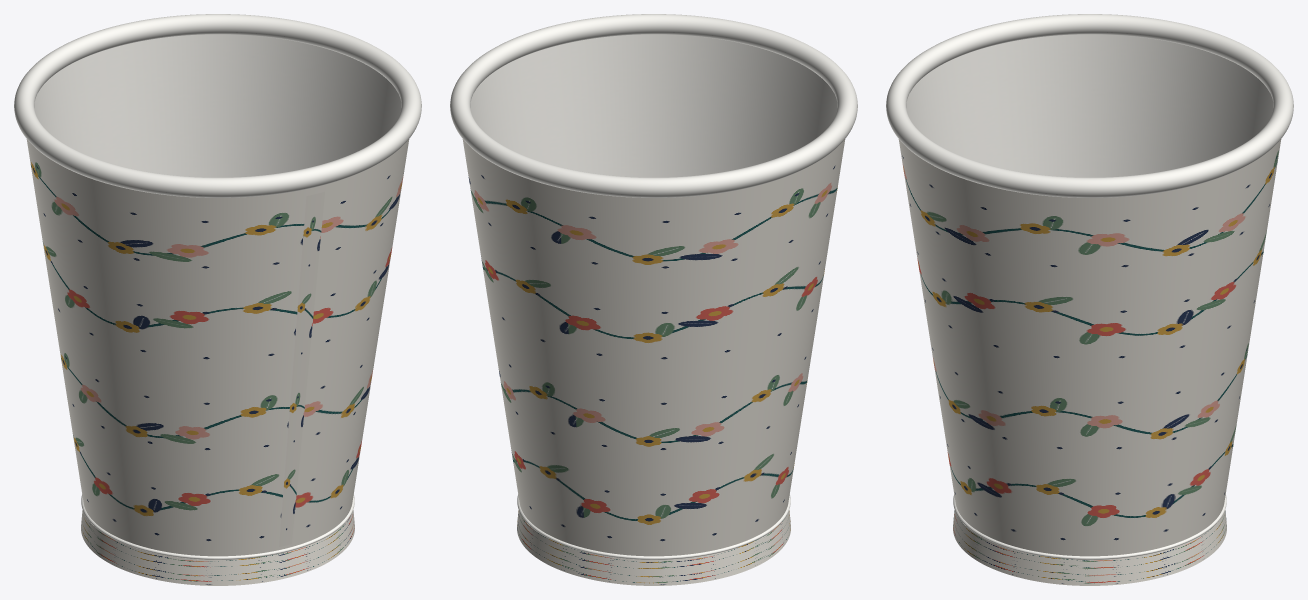
File: patterned-botanical-paper-cup-v1.glb
3 views of the same model, side by side, from view 1: azimuth 30°, elevation 25°; view 2: azimuth 150°, elevation 25°; view 3: azimuth 270°, elevation 25° (orthographic).
Visible parts, largest first — view 1: Cup_Body, Cup_Rolled_Rim, Cup_Bottom, Cup_Side_Overlap_Seam; view 2: Cup_Body, Cup_Rolled_Rim, Cup_Bottom; view 3: Cup_Body, Cup_Rolled_Rim, Cup_Bottom.
Part boxes in pixels (x1,y1,x2,y2): Cup_Body: [26, 34, 409, 556]; Cup_Rolled_Rim: [14, 14, 421, 197]; Cup_Bottom: [81, 494, 354, 585]; Cup_Side_Overlap_Seam: [279, 191, 324, 546]; Cup_Body: [462, 34, 845, 556]; Cup_Rolled_Rim: [450, 14, 857, 197]; Cup_Bottom: [517, 494, 790, 585]; Cup_Body: [898, 34, 1281, 556]; Cup_Rolled_Rim: [886, 14, 1293, 197]; Cup_Bottom: [953, 494, 1226, 585].
Bounding box in the file's own units: 0.094 × 0.1097 × 0.094.
Materials: 5 (5 with a texture image).
